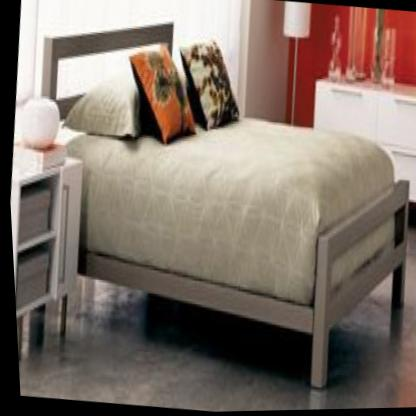Bed: (7, 0, 416, 402)
